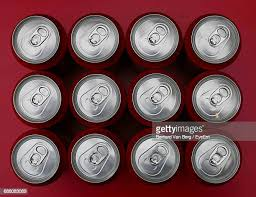can: (123, 7, 188, 65), (0, 125, 66, 181), (183, 8, 243, 69), (6, 9, 67, 65), (66, 10, 124, 68), (62, 129, 124, 183), (127, 130, 187, 185), (68, 71, 128, 125), (4, 68, 65, 120), (187, 127, 246, 179), (187, 73, 248, 122), (126, 70, 180, 121)
